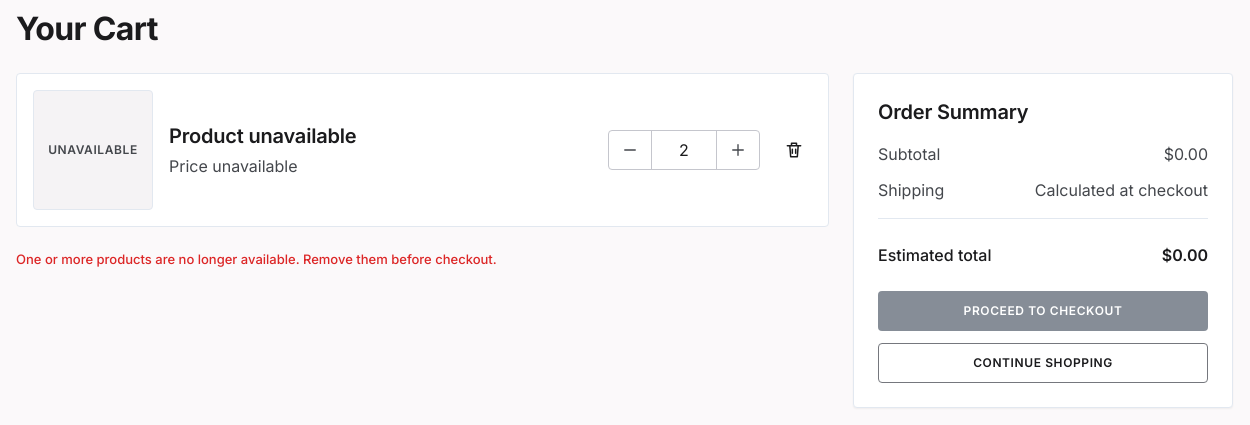
Test: CartView › shows unavailable products and uses a fallback mutation error
Expected: the heading "Product unavailable" is shown, [169,124,356,148]
Expected: the text "One or more products are no longer available. Remove them before checkout." is shown, [16,251,497,267]
Click the button named "Remove unavailable product" at {"x": 794, "y": 150}, box [776,132,812,168]
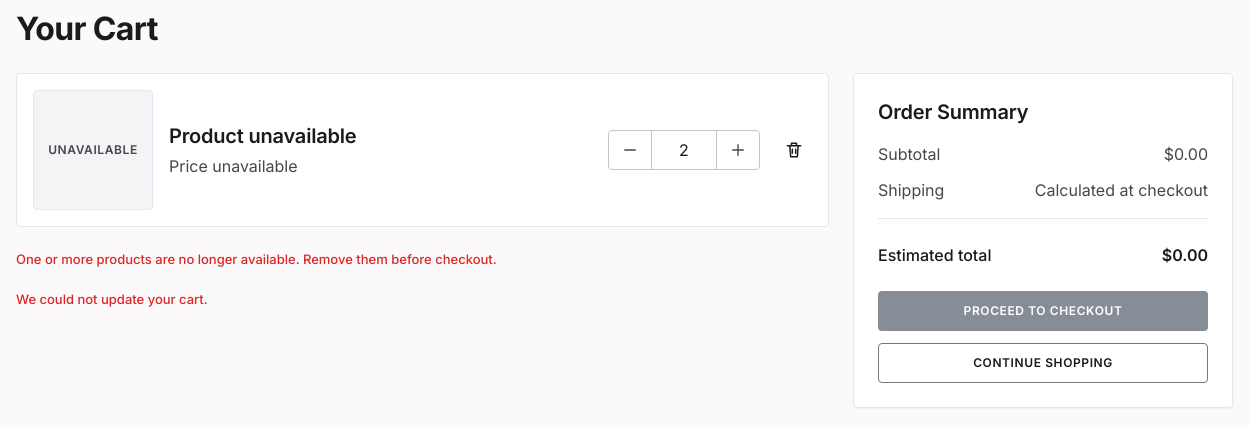
Now the text "We could not update your cart." is shown, box [16,291,208,307]
